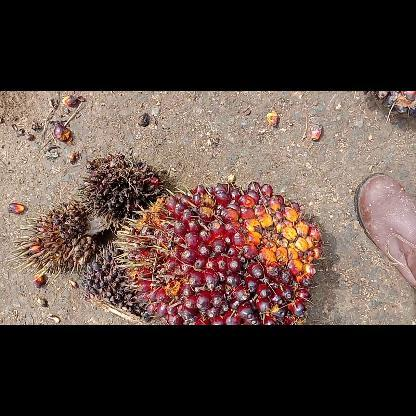TBS abnormal: (9, 198, 110, 284), (74, 152, 166, 224), (78, 240, 154, 323)
TBS masak: (109, 180, 327, 324)
